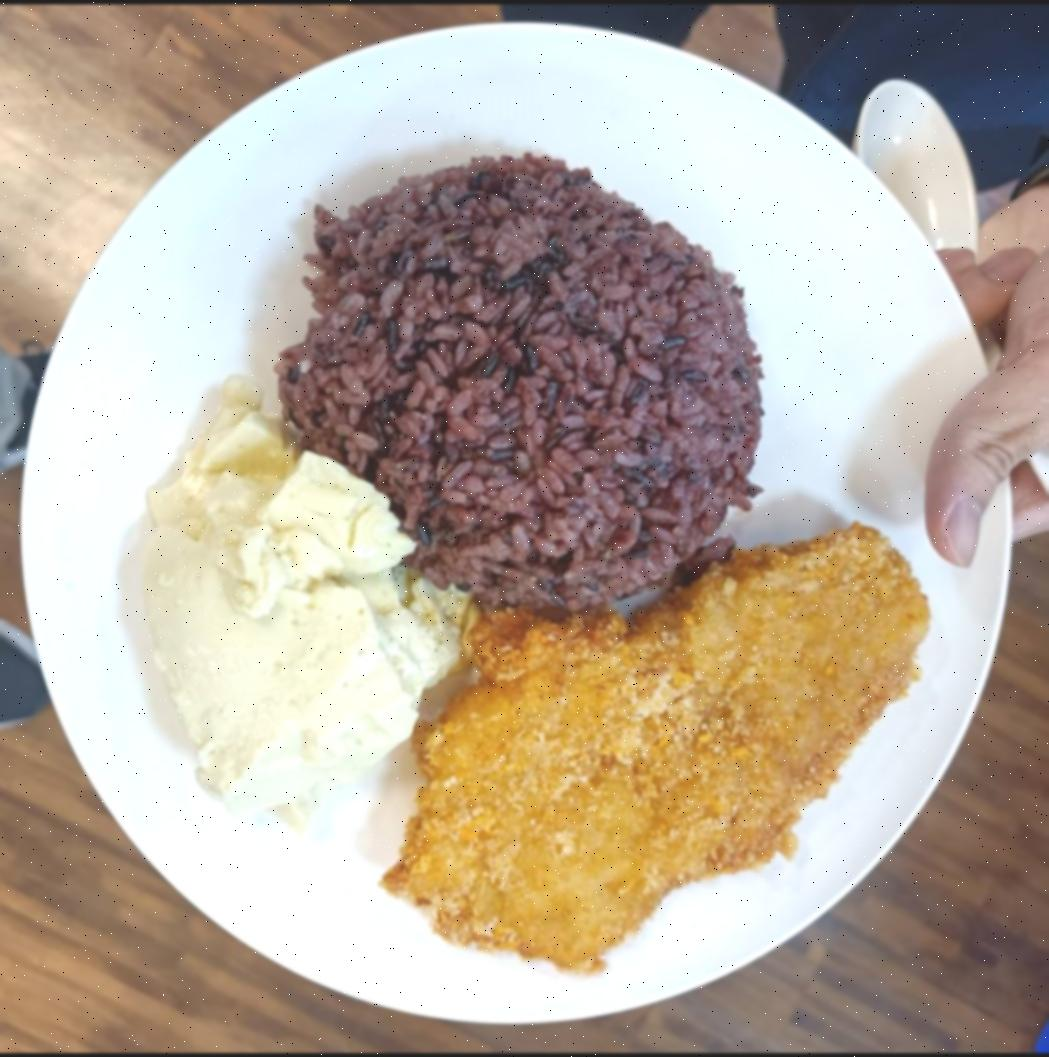chicken steak: (394, 511, 932, 992)
plate: (28, 17, 1022, 1035)
purple rice: (302, 152, 770, 614)
side dish: (123, 375, 457, 855)
